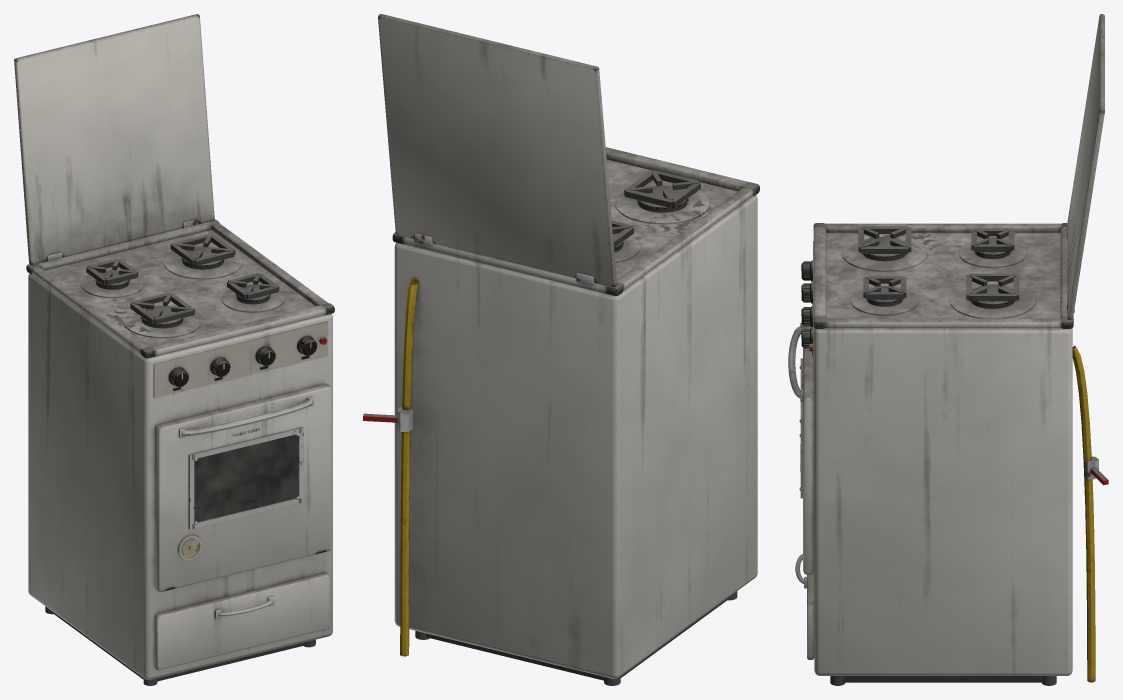
The model's file is SM_GasStove_4Burner.fbx.
3 views of the same model, side by side, from view 1: azimuth 30°, elevation 25°; view 2: azimuth 150°, elevation 25°; view 3: azimuth 270°, elevation 25° (orthographic). The views are drawn at different scales.
Visible parts, largest first — view 1: SM_GasStove_4Burner; view 2: SM_GasStove_4Burner; view 3: SM_GasStove_4Burner.
Boxes of the visible parts, box(x1,y1,x2,y2) form: SM_GasStove_4Burner: box(14, 14, 334, 685); SM_GasStove_4Burner: box(363, 14, 759, 685); SM_GasStove_4Burner: box(788, 14, 1108, 685).
Bounding box in the file's own units: 0.5278 × 1.36 × 0.6822.
Materials: 1 (1 with a texture image).
